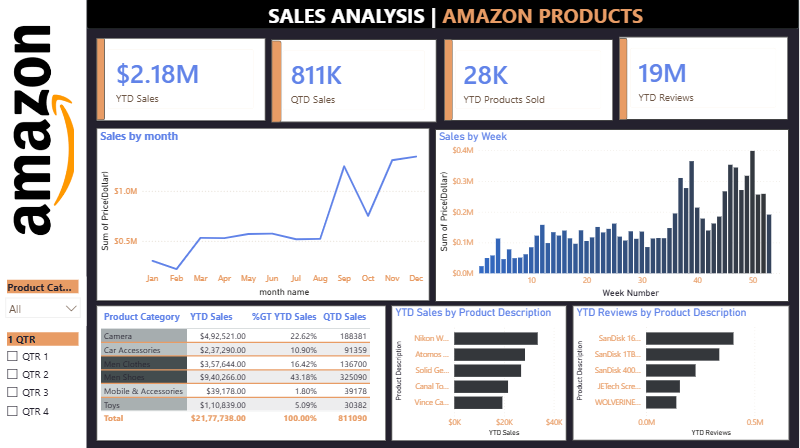

This screenshot's page, from the dashboard's own definition file:
{"tool":"powerbi","page":{"name":"Page 1","canvas":[1280,720],"ordinal":0},"visuals":[{"type":"shape","box":[140,0,1140,50],"z":0},{"type":"textbox","box":[417.1,0,625.7,52.9],"z":1000},{"type":"shape","box":[0,0,140,720],"z":2000},{"type":"cardVisual","fields":{"Data":["Amazon_Data.YTD Sales"]},"box":[155.7,64.3,270,132.9],"z":2000,"group":"g4"},{"type":"lineChart","title":"Sales by month ","fields":{"Category":["date table.month name"],"Y":["Sum(Amazon_Data.Price(Dollar))"]},"box":[155.7,208.6,532.9,277.1],"z":3000},{"type":"cardVisual","fields":{"Data":["Amazon_Data.qtd"]},"box":[436.4,65,264,132.9],"z":4000,"group":"g1"},{"type":"columnChart","title":"Sales by Week","fields":{"Category":["date table.Week Number"],"Y":["Sum(Amazon_Data.Price(Dollar))"]},"box":[698.6,210,565.7,275.7],"z":4000},{"type":"cardVisual","fields":{"Data":["Amazon_Data.YTD Products Sold"]},"box":[712.1,65,270,130],"z":5000,"group":"g3"},{"type":"tableEx","fields":{"Values":["Amazon_Data.Product Category","Amazon_Data.YTD Sales1","Amazon_Data.YTD Sales","Amazon_Data.QTD Sales"]},"box":[155.7,491.4,462.9,217.1],"z":5000},{"type":"cardVisual","fields":{"Data":["Amazon_Data.YTD Reviews"]},"box":[992.9,62.9,270,132.8],"z":6000,"group":"g2"},{"type":"clusteredBarChart","fields":{"Category":["Amazon_Data.Product Description"],"Y":["Amazon_Data.YTD Sales"]},"box":[628.3,491.7,280,216.7],"z":6000},{"type":"clusteredBarChart","fields":{"Category":["Amazon_Data.Product Description"],"Y":["Amazon_Data.YTD Reviews"]},"box":[918,492,346,216],"z":7000},{"type":"shape","box":[712.1,65,14,130],"z":8000,"group":"g3"},{"type":"slicer","fields":{"Values":["Amazon_Data.Product Category"]},"box":[0,445,140,78.3],"z":8000},{"type":"shape","box":[155.8,64.7,13.6,131.5],"z":9000,"group":"g4"},{"type":"slicer","fields":{"Values":["date table.1 QTR"]},"box":[0,530,140,166.7],"z":9000},{"type":"image","box":[20,26.7,100,371.7],"z":10000},{"type":"shape","box":[436.4,66,16,131],"z":10000,"group":"g1"},{"type":"shape","box":[992.9,64.5,13.4,131.2],"z":11000,"group":"g2"},{"type":"group","id":"g1","title":"Group 1","box":[436.4,65,265,132.5],"z":11000},{"type":"group","id":"g2","title":"Group 2","box":[992.9,62.9,270,132],"z":12000},{"type":"group","id":"g3","title":"Group 3","box":[712.1,65,270,130],"z":13000},{"type":"group","id":"g4","title":"Group 4","box":[155.7,64.3,270,132.9],"z":14000}]}

Visuals, with their boxes in screenshot pixels (x1, y1, x2, y2), scaled from the page's 1280x720 canvas onto the 800x448 screenshot:
shape: 88, 0, 799, 31
textbox: 261, 0, 652, 33
shape: 0, 0, 88, 447
cardVisual - Amazon_Data.YTD Sales: 97, 40, 266, 123
"Sales by month " lineChart: 97, 130, 430, 302
cardVisual - Amazon_Data.qtd: 273, 40, 438, 123
"Sales by Week" columnChart: 437, 131, 790, 302
cardVisual - Amazon_Data.YTD Products Sold: 445, 40, 614, 121
tableEx - Amazon_Data.Product Category x Amazon_Data.YTD Sales1: 97, 306, 387, 441
cardVisual - Amazon_Data.YTD Reviews: 621, 39, 789, 122
clusteredBarChart - Amazon_Data.Product Description x Amazon_Data.YTD Sales: 393, 306, 568, 441
clusteredBarChart - Amazon_Data.Product Description x Amazon_Data.YTD Reviews: 574, 306, 790, 441
shape: 445, 40, 454, 121
slicer - Amazon_Data.Product Category: 0, 277, 88, 326
shape: 97, 40, 106, 122
slicer - date table.1 QTR: 0, 330, 88, 434
image: 12, 17, 75, 248
shape: 273, 41, 283, 123
shape: 621, 40, 629, 122
"Group 1" group: 273, 40, 438, 123
"Group 2" group: 621, 39, 789, 121
"Group 3" group: 445, 40, 614, 121
"Group 4" group: 97, 40, 266, 123
